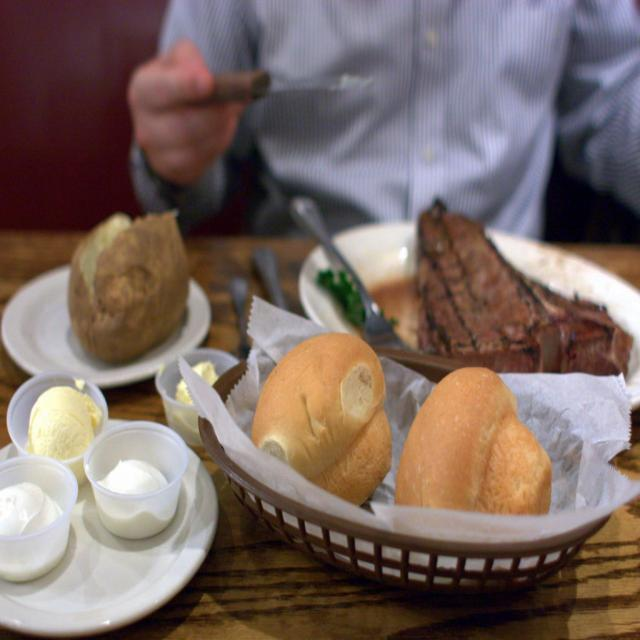Ice cream: (92, 452, 180, 545), (18, 385, 102, 476), (169, 352, 233, 462), (0, 469, 70, 546)
